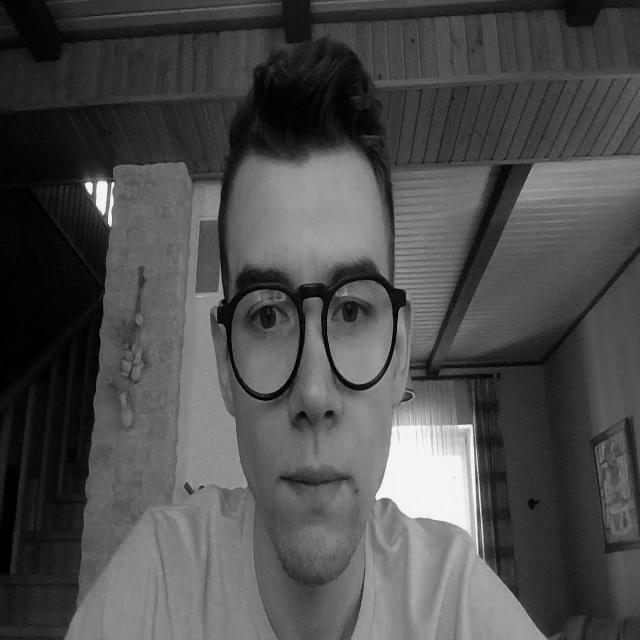real: (228, 162, 398, 584)
